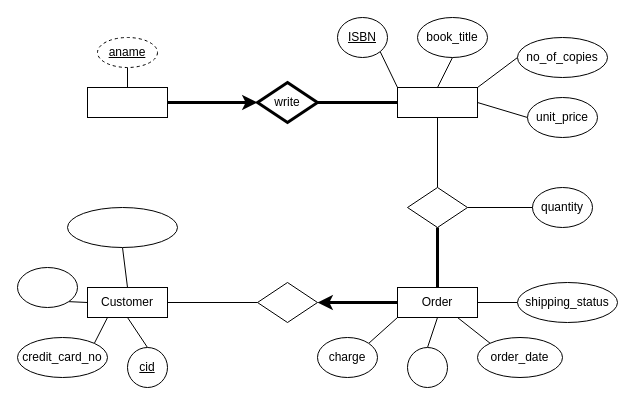
Some shapes in this 635 by 405 pixel diagram are drawn without their labels. Each missing label, with the centre of its shape:
Author: pixel 127 102
Book: pixel 437 102
cname: pixel 47 287
include: pixel 437 207
oid: pixel 427 367
place: pixel 287 302
shipping_address: pixel 122 227
